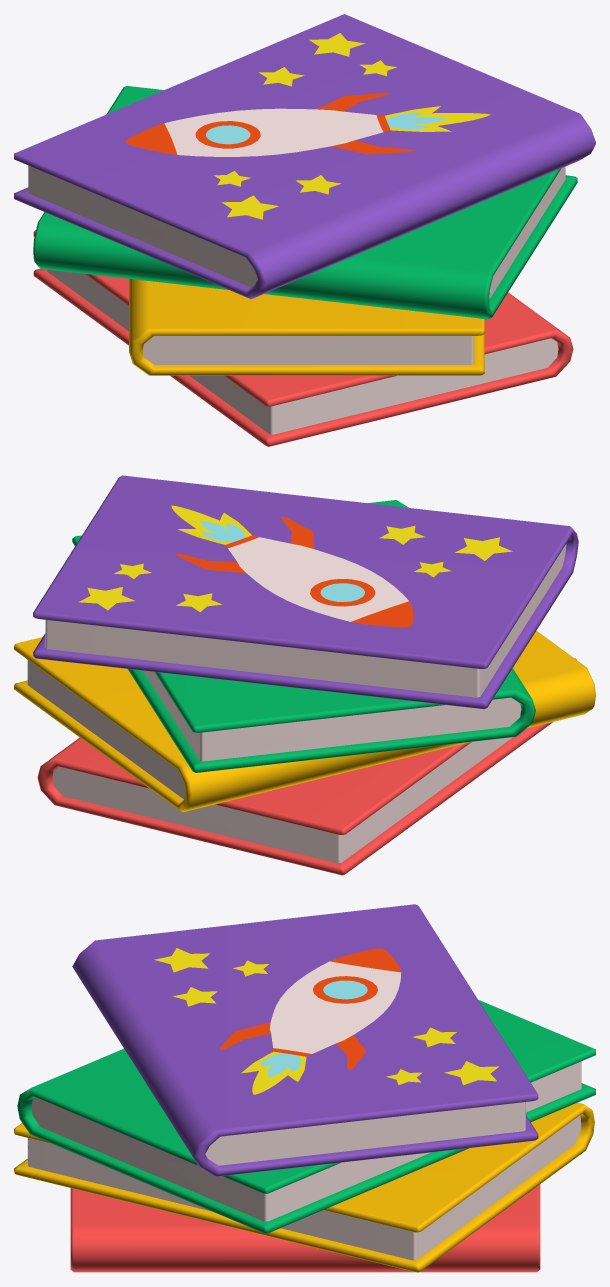
The model's file is Public_17_Books_3.glb.
3 views of the same model, one above another, from view 1: azimuth 30°, elevation 25°; view 2: azimuth 150°, elevation 25°; view 3: azimuth 270°, elevation 25° (orthographic).
Parts seen in each view (by area): view 1: Public_17_Books_3; view 2: Public_17_Books_3; view 3: Public_17_Books_3.
Part boxes in pixels (x1,y1,x2,y2): Public_17_Books_3: (14, 14, 595, 446); Public_17_Books_3: (14, 475, 595, 875); Public_17_Books_3: (14, 904, 595, 1272).
Bounding box in the file's own units: 1.76 × 0.6377 × 1.77.
Materials: 1 (1 with a texture image).
